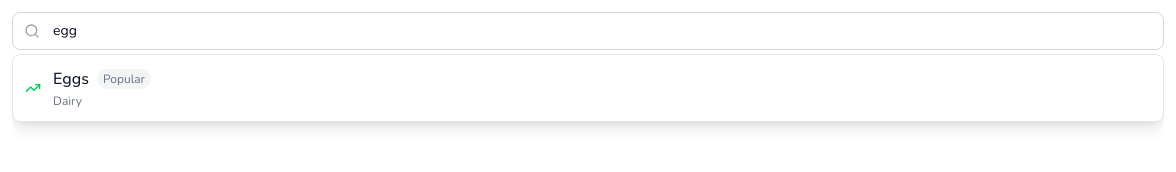
Test: AutocompleteInput › closes suggestions on escape and blur
Focus the field: (588, 31) x1=12 y1=12 x2=1164 y2=50
Expected: the text "Eggs" is shown, x1=53 y1=67 x2=89 y2=91
Press Escape in the field, box x1=12 y1=12 x2=1164 y2=50
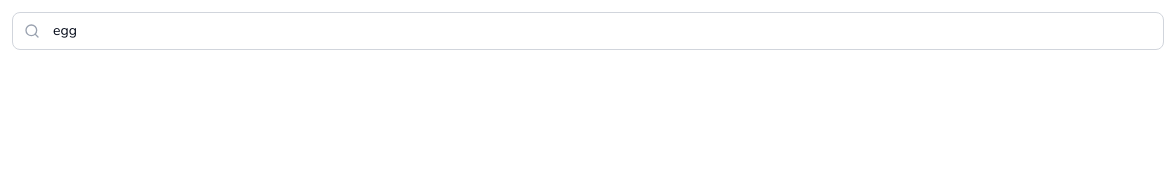
Now the button "Eggs" is gone
